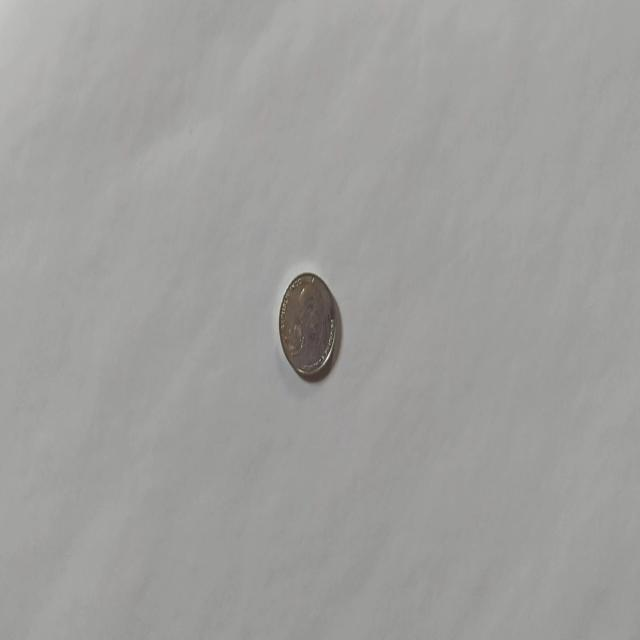lima ratus rupiah: (277, 270, 337, 380)
